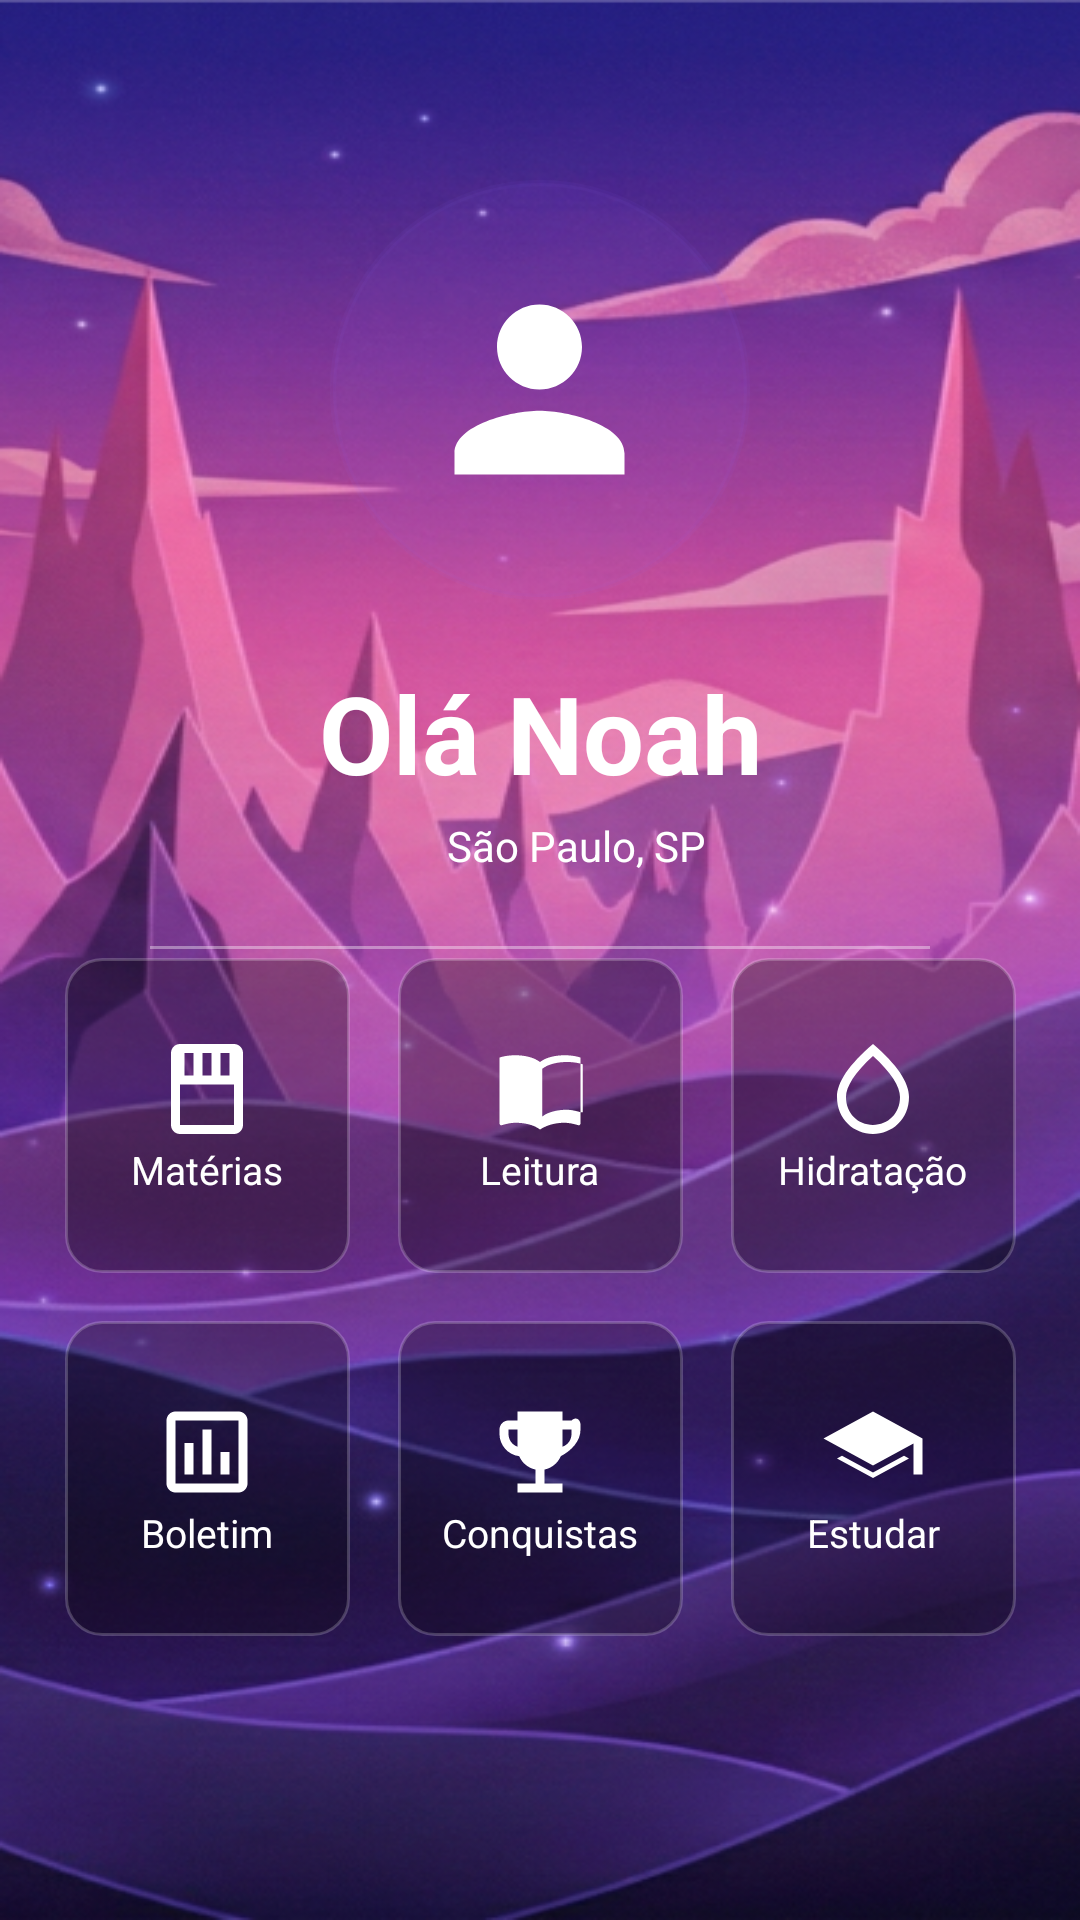

Screen size 1080w x 1920h. Icon name, then its center in pixels as (x=x, y=y):
Foto de perfil: (x=539, y=389)
